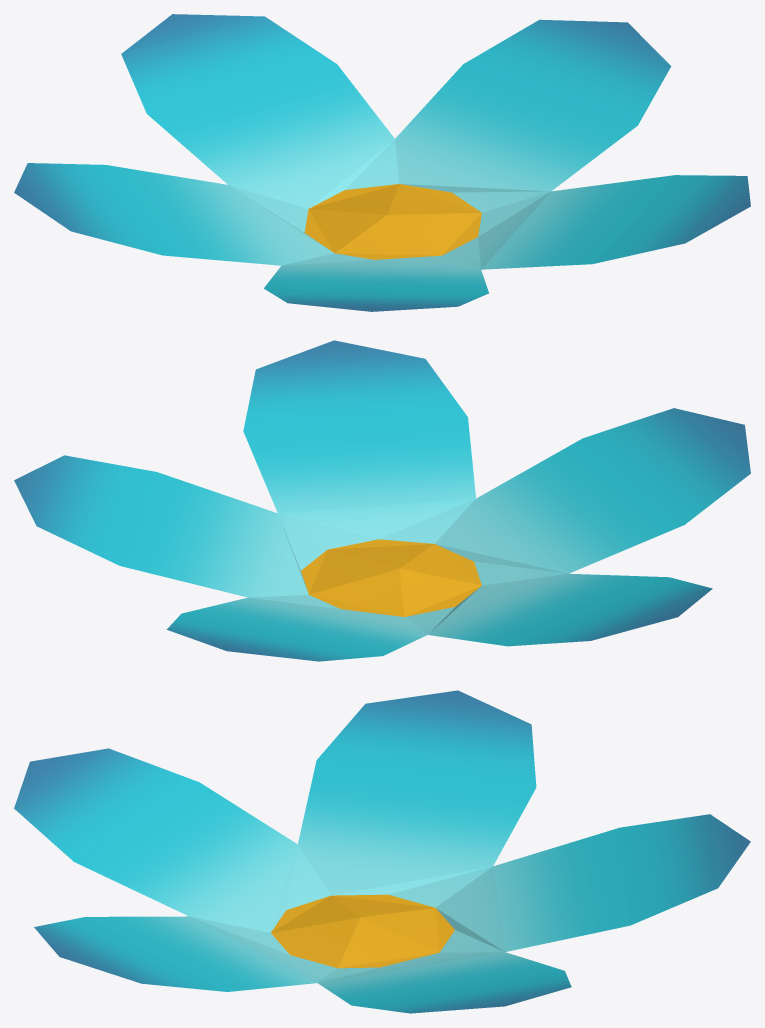
The model's file is azul-cielo-1.glb.
3 renders of one model, top to bottom at view 1: azimuth 30°, elevation 25°; view 2: azimuth 150°, elevation 25°; view 3: azimuth 270°, elevation 25°, orthographic.
Visible parts, largest first — view 1: Flower.015; view 2: Flower.015; view 3: Flower.015.
Part boxes in pixels (x1,y1,x2,y2): Flower.015: (14,14,750,311); Flower.015: (14,340,750,661); Flower.015: (14,690,750,1013).
Bounding box in the file's own units: 0.4326 × 0.0506 × 0.4295.
Materials: 1 (1 with a texture image).
